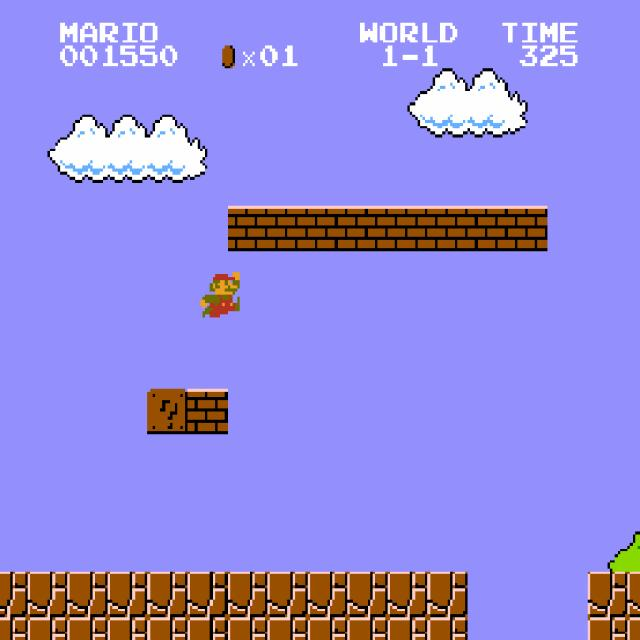brick_block: (187, 389, 228, 434), (227, 206, 268, 251), (267, 206, 308, 251), (307, 206, 348, 251), (347, 206, 388, 251), (387, 206, 428, 251), (427, 206, 468, 251), (467, 206, 508, 251), (507, 206, 548, 251)
little_mario: (197, 268, 240, 317)
mystery_block: (147, 389, 188, 434)
undestructible_block: (27, 572, 68, 617), (67, 572, 108, 617), (107, 572, 148, 617), (147, 572, 188, 617), (187, 572, 228, 617), (227, 572, 268, 617), (267, 572, 308, 617), (307, 572, 348, 617), (347, 572, 388, 617), (387, 572, 428, 617), (427, 572, 468, 617), (587, 572, 628, 617), (0, 572, 28, 617), (27, 617, 68, 640), (67, 617, 108, 640), (107, 617, 148, 640), (147, 617, 188, 640), (187, 617, 228, 640), (227, 617, 268, 640), (267, 617, 308, 640), (307, 617, 348, 640), (347, 617, 388, 640), (387, 617, 428, 640), (427, 617, 468, 640), (587, 617, 628, 640), (0, 617, 28, 640), (627, 572, 640, 617), (627, 617, 640, 640)
